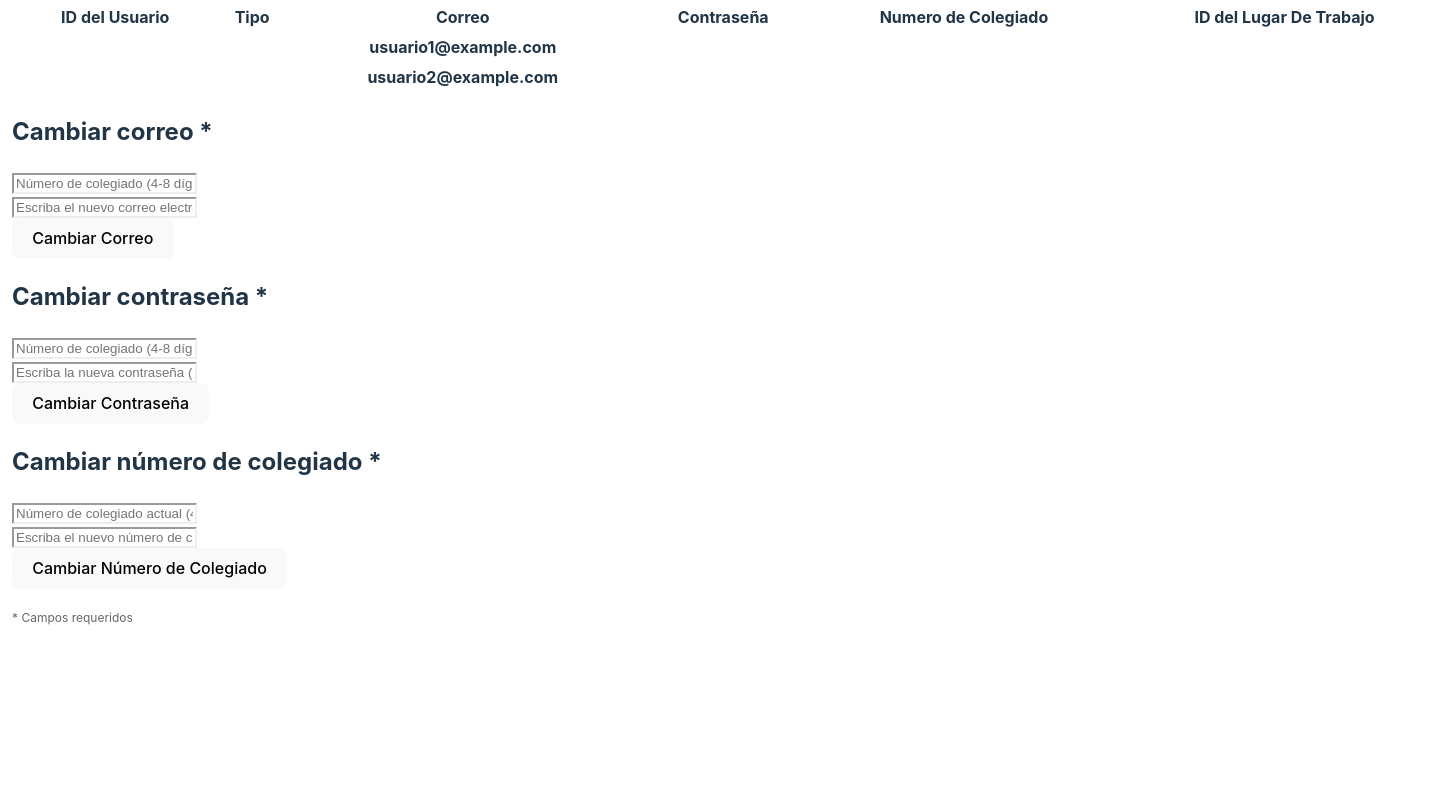
UsuarioUpdate_mantenimiento › Validación de número de colegiado › debe limpiar el error cuando el número de colegiado es válido
In the 1st field with placeholder "Número de colegiado (4-8 dígitos)": (104, 183) [12,173,197,194], type "123"
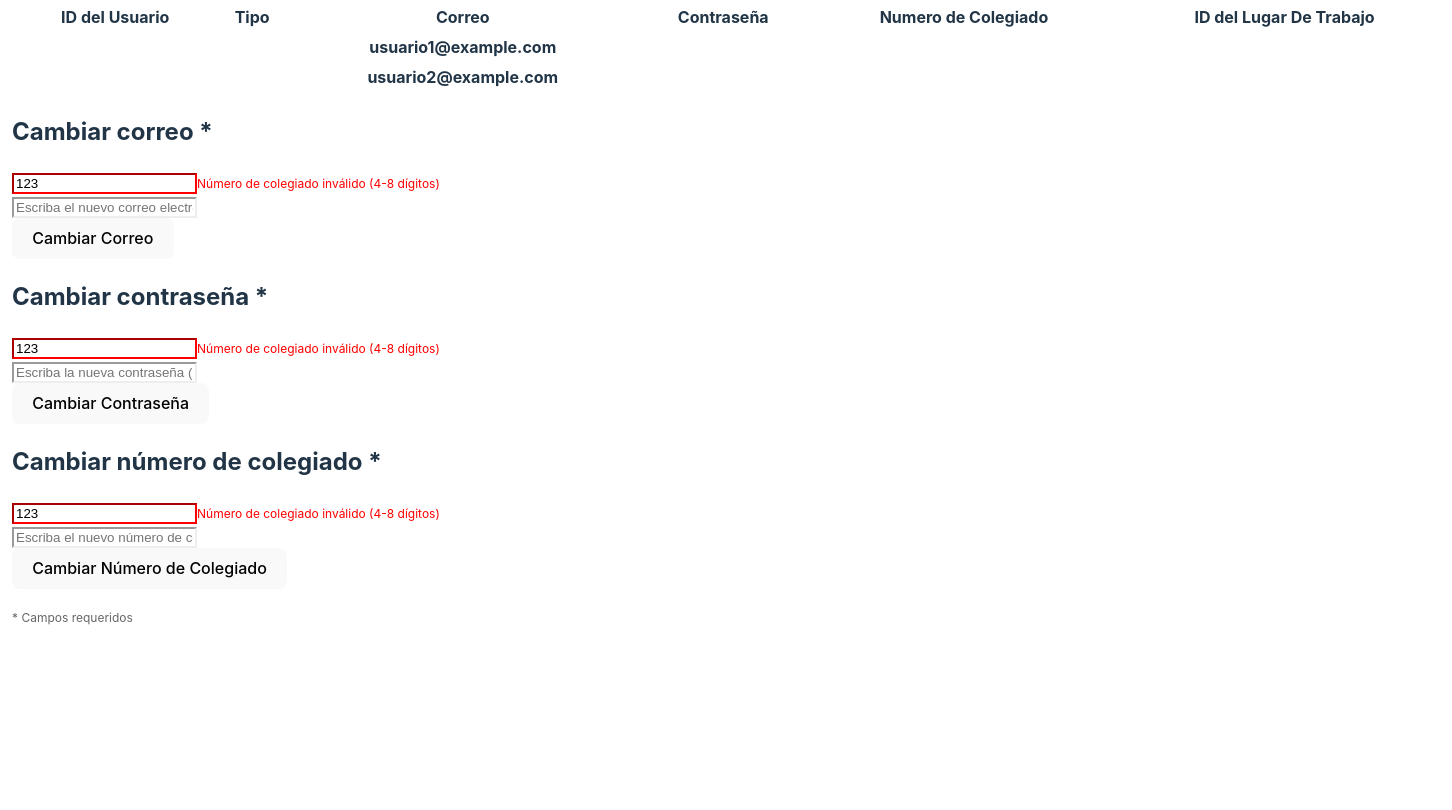
Expected: the 1st text "Número de colegiado inválido (4-8 dígitos)" is shown, [197,176,440,191]
Replace the text in the 1st field with placeholder "Número de colegiado (4-8 dígitos)" with "12345": (104, 183) [12,173,197,194]
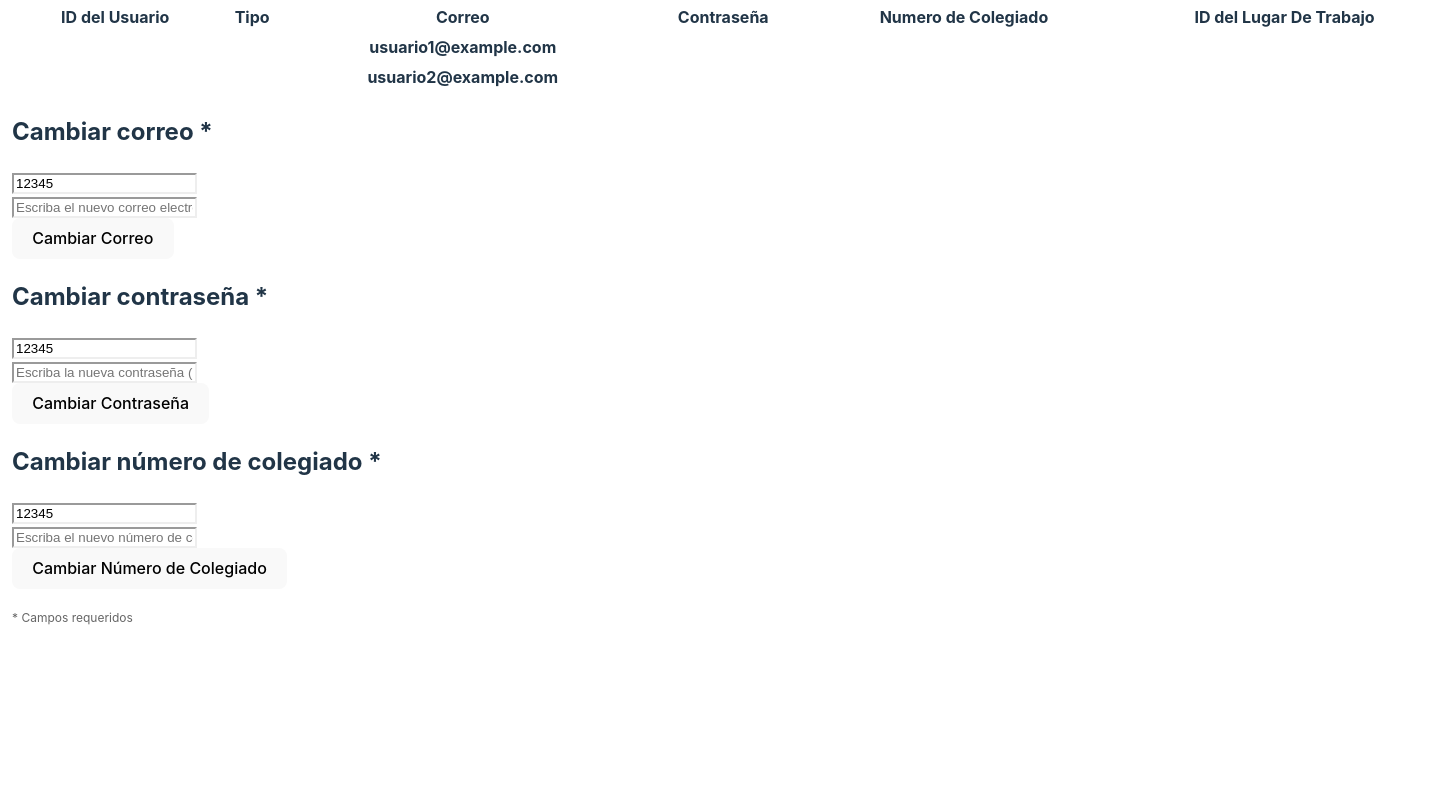
Expected: the text "Número de colegiado inválido (4-8 dígitos)" is gone
